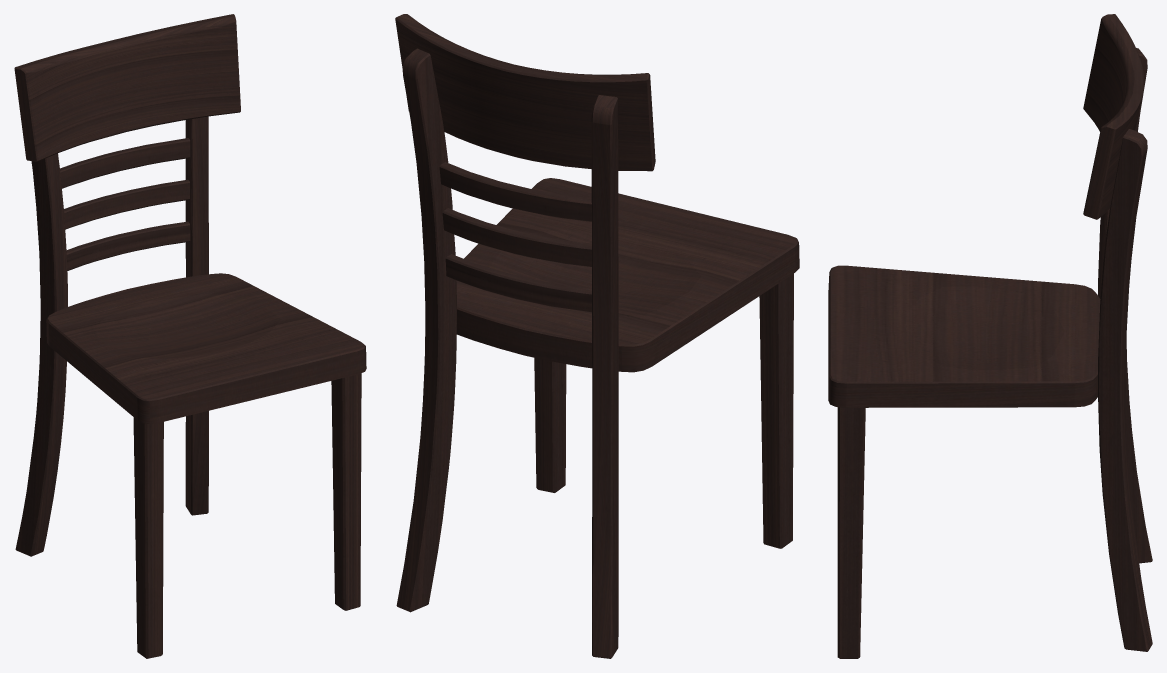
File: Chair 1.FBX
The picture shows the model from 3 angles, left to right: view 1: azimuth 30°, elevation 25°; view 2: azimuth 150°, elevation 25°; view 3: azimuth 270°, elevation 25°; orthographic projection. The views are drawn at different scales.
Parts seen in each view (by area): view 1: chair 1; view 2: chair 1; view 3: chair 1.
Boxes of the visible parts, <box> form: chair 1: <box>14,14,366,658</box>; chair 1: <box>395,14,799,658</box>; chair 1: <box>828,14,1152,658</box>.
Bounding box in the file's own units: 39.5 × 83.79 × 46.2.
Materials: 1 (1 with a texture image).
